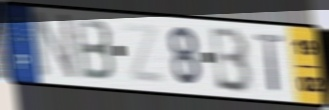8: (168, 25, 203, 88)
B: (209, 26, 255, 96), (71, 16, 117, 83)
N: (32, 10, 78, 84)
T: (253, 32, 286, 95)
Z: (120, 21, 168, 87)
